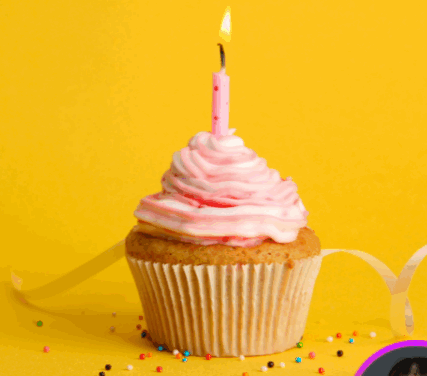Fire: (211, 3, 247, 56)
